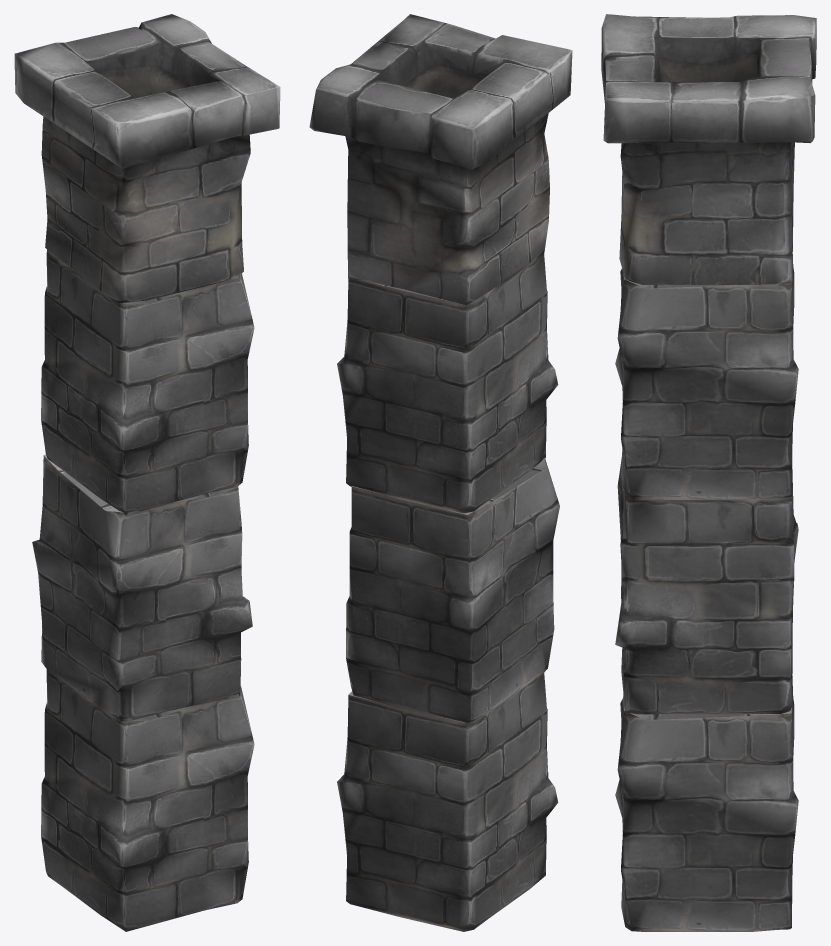
Rendered from structure_fireplace_02_(2).gltf.
3 renders of one model, left to right at view 1: azimuth 30°, elevation 25°; view 2: azimuth 150°, elevation 25°; view 3: azimuth 270°, elevation 25°, orthographic. The views are drawn at different scales.
Parts seen in each view (by area): view 1: SM_Fireplace_Mid_LOD2 (×3), SM_Fireplace_Top_LOD2; view 2: SM_Fireplace_Mid_LOD2 (×3), SM_Fireplace_Top_LOD2; view 3: SM_Fireplace_Mid_LOD2 (×3), SM_Fireplace_Top_LOD2.
Boxes of the visible parts, left/top/right/bottom form: SM_Fireplace_Mid_LOD2 (×3): left=32, top=249, right=254, bottom=931; SM_Fireplace_Top_LOD2: left=14, top=14, right=280, bottom=303; SM_Fireplace_Mid_LOD2 (×3): left=337, top=253, right=559, bottom=931; SM_Fireplace_Top_LOD2: left=309, top=14, right=572, bottom=304; SM_Fireplace_Mid_LOD2 (×3): left=615, top=254, right=798, bottom=931; SM_Fireplace_Top_LOD2: left=601, top=14, right=816, bottom=284.
Bounding box in the file's own units: 1.68 × 7.88 × 1.81.
Materials: 1 (1 with a texture image).
